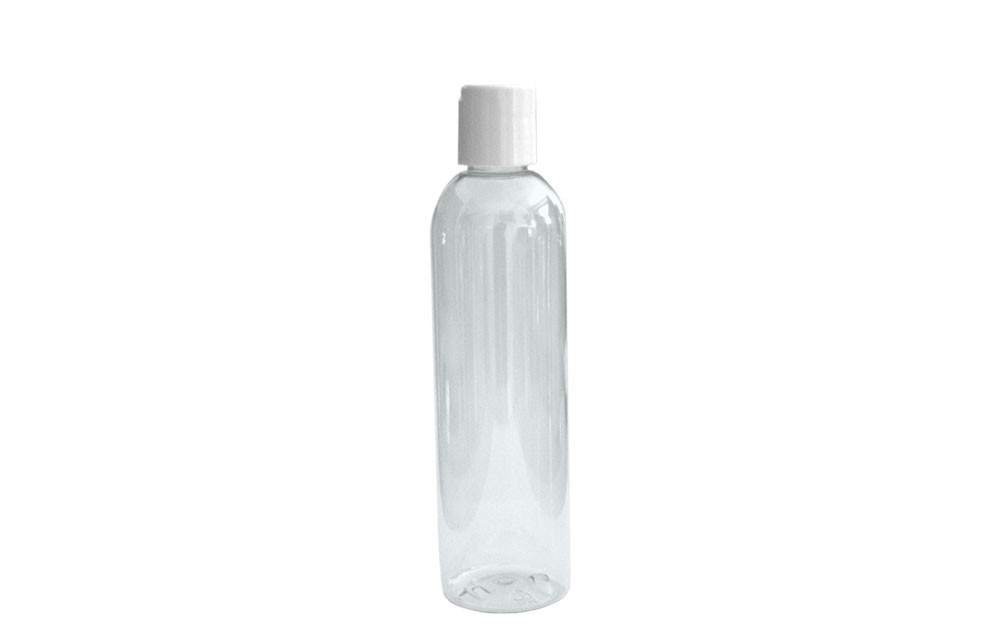emptybottle: (430, 85, 570, 616)
